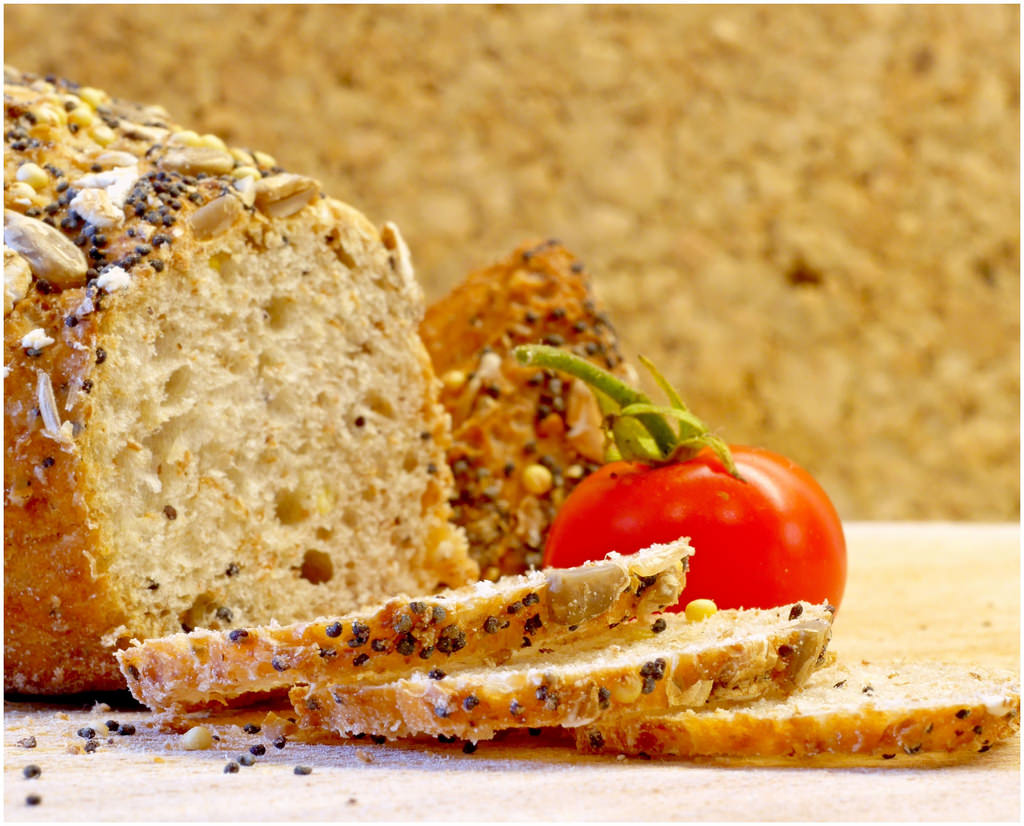slice of bread: (11, 100, 445, 626), (127, 590, 1009, 787)
